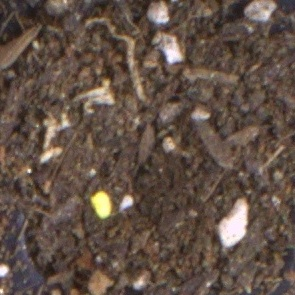chilli seed: (90, 191, 112, 219)
